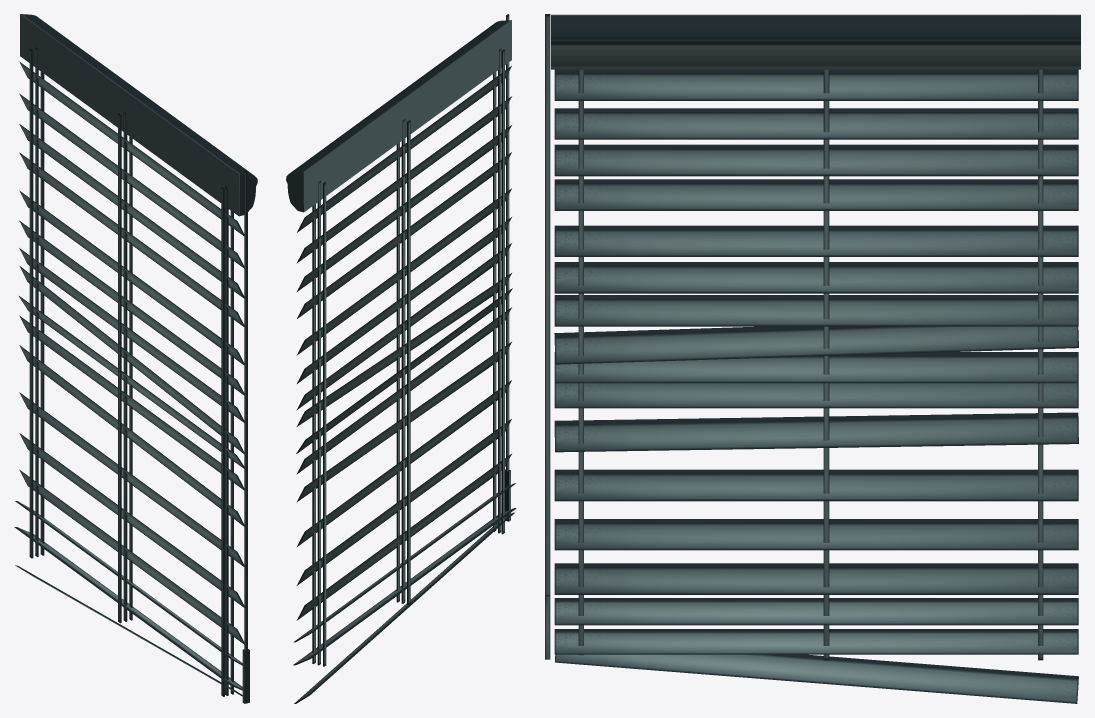
File: Blinds.fbx
3 renders of one model, left to right at view 1: azimuth 30°, elevation 25°; view 2: azimuth 150°, elevation 25°; view 3: azimuth 270°, elevation 25°, orthographic. The views are drawn at different scales.
Parts seen in each view (by area): view 1: BlindsHolderMesh, BlindsStringMeshRight2, BlindsStringMeshMiddle1, BlindsMesh.03, BlindsMesh.06, BlindsMesh.13, BlindsMesh.14, BlindsMesh.11, BlindsMesh.02, BlindsMesh.07, BlindsMesh.05, BlindsMesh.01 (+17 smaller); view 2: BlindsHolderMesh, BlindsStringMeshMiddle1, BlindsMesh.09, BlindsMesh.08, BlindsMesh.02, BlindsMesh.11, BlindsMesh.07, BlindsMesh.05, BlindsMesh.12, BlindsMesh.04, BlindsMesh.03, BlindsMesh.06 (+16 smaller); view 3: BlindsHolderMesh, BlindsMesh.12, BlindsMesh.03, BlindsMesh.08, BlindsMesh.14, BlindsMesh.04, BlindsMesh.07, BlindsMesh.02, BlindsMesh.06, BlindsMesh.13, BlindsMesh.05, BlindsMesh.01 (+10 smaller).
Boxes of the visible parts, <box> form: BlindsHolderMesh: <box>20,14,257,216</box>; BlindsStringMeshRight2: <box>29,48,33,558</box>; BlindsStringMeshMiddle1: <box>123,112,127,621</box>; BlindsMesh.03: <box>19,124,244,298</box>; BlindsMesh.06: <box>19,220,244,395</box>; BlindsMesh.13: <box>19,433,244,607</box>; BlindsMesh.14: <box>19,469,244,644</box>; BlindsMesh.11: <box>19,315,244,490</box>; BlindsMesh.02: <box>19,93,244,268</box>; BlindsMesh.07: <box>19,248,244,422</box>; BlindsMesh.05: <box>19,190,244,364</box>; BlindsMesh.01: <box>19,61,244,235</box>; BlindsHolderMesh: <box>286,20,511,212</box>; BlindsStringMeshMiddle1: <box>401,119,405,603</box>; BlindsMesh.09: <box>296,273,511,426</box>; BlindsMesh.08: <box>296,342,511,502</box>; BlindsMesh.02: <box>296,96,511,263</box>; BlindsMesh.11: <box>296,307,511,474</box>; BlindsMesh.07: <box>296,243,511,410</box>; BlindsMesh.05: <box>296,188,511,355</box>; BlindsMesh.12: <box>296,380,511,547</box>; BlindsMesh.04: <box>297,152,511,318</box>; BlindsMesh.03: <box>297,125,511,291</box>; BlindsMesh.06: <box>297,217,511,383</box>; BlindsHolderMesh: <box>551,14,1080,69</box>; BlindsMesh.12: <box>554,469,1078,501</box>; BlindsMesh.03: <box>554,144,1078,176</box>; BlindsMesh.08: <box>554,412,1078,452</box>; BlindsMesh.14: <box>554,563,1078,594</box>; BlindsMesh.04: <box>554,179,1078,210</box>; BlindsMesh.07: <box>554,295,1078,326</box>; BlindsMesh.02: <box>554,108,1078,139</box>; BlindsMesh.06: <box>554,262,1078,293</box>; BlindsMesh.13: <box>554,519,1078,550</box>; BlindsMesh.05: <box>554,225,1078,256</box>; BlindsMesh.01: <box>554,69,1078,100</box>.
Size of the model in its own units: 46.12 by 971 by 687.
Materials: 28 (28 with a texture image).
